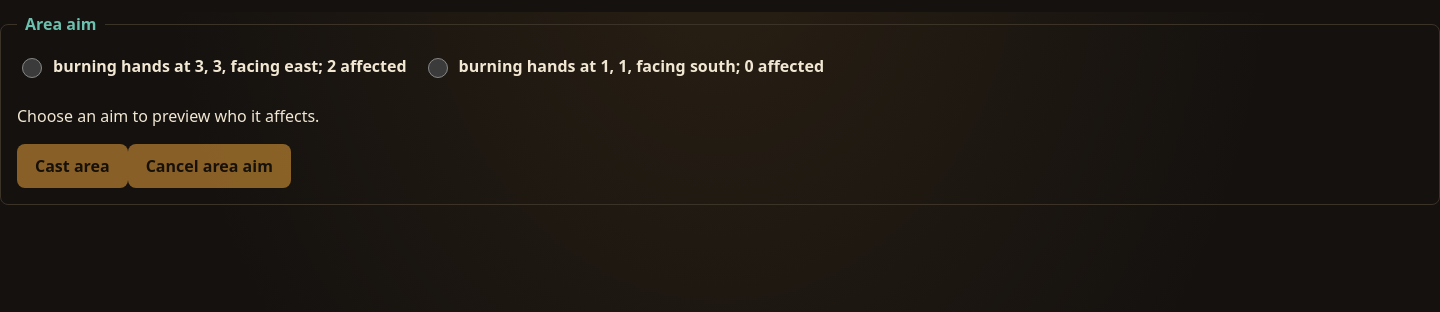
Test: area aim list › previews the affected units by name and relation once an aim is selected
This screenshot has width=1440, height=312.
Click the radio button labelled "burning hands at 3, 3, facing east; 2 affected".
click(32, 68)  # box [22,58,42,78]
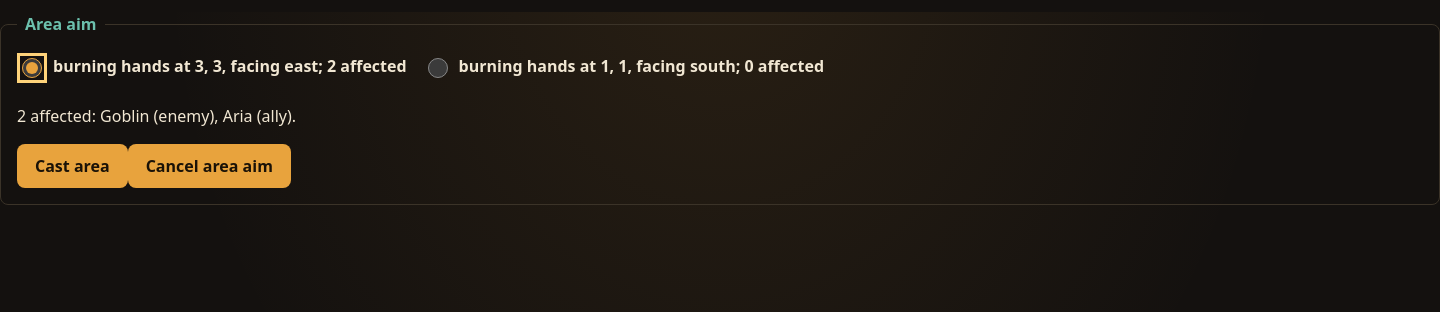
Check: the text "2 affected: Goblin (enemy), Aria (ally)." is shown, box [17,105,296,127]
Click the radio button labelled "burning hands at 1, 1, facing south; 0 affected".
click(438, 68)  # box [428,58,448,78]
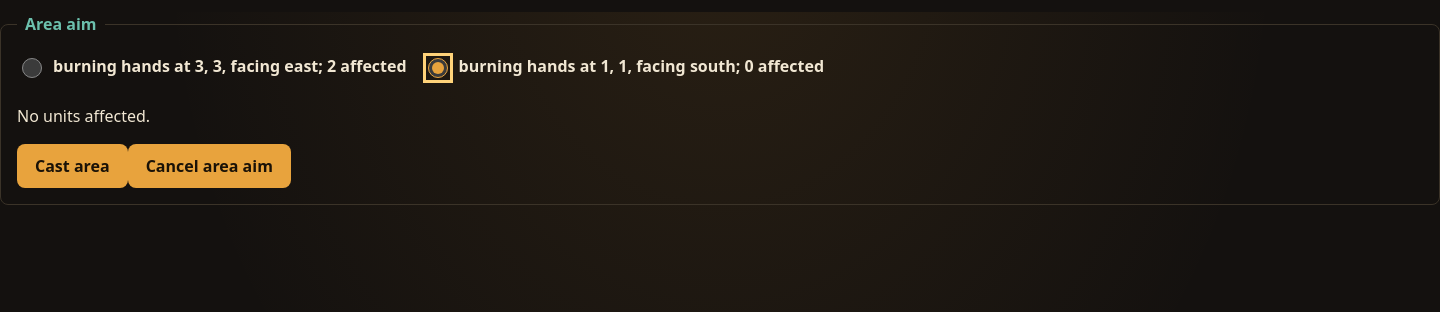
Check: the text "No units affected." is shown, box [17,105,150,127]
